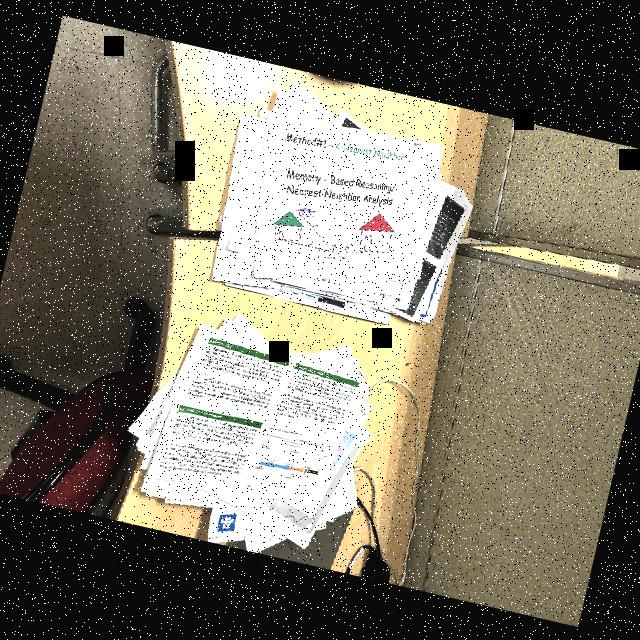reuseable_paper: (188, 75, 492, 344), (105, 296, 398, 572)
